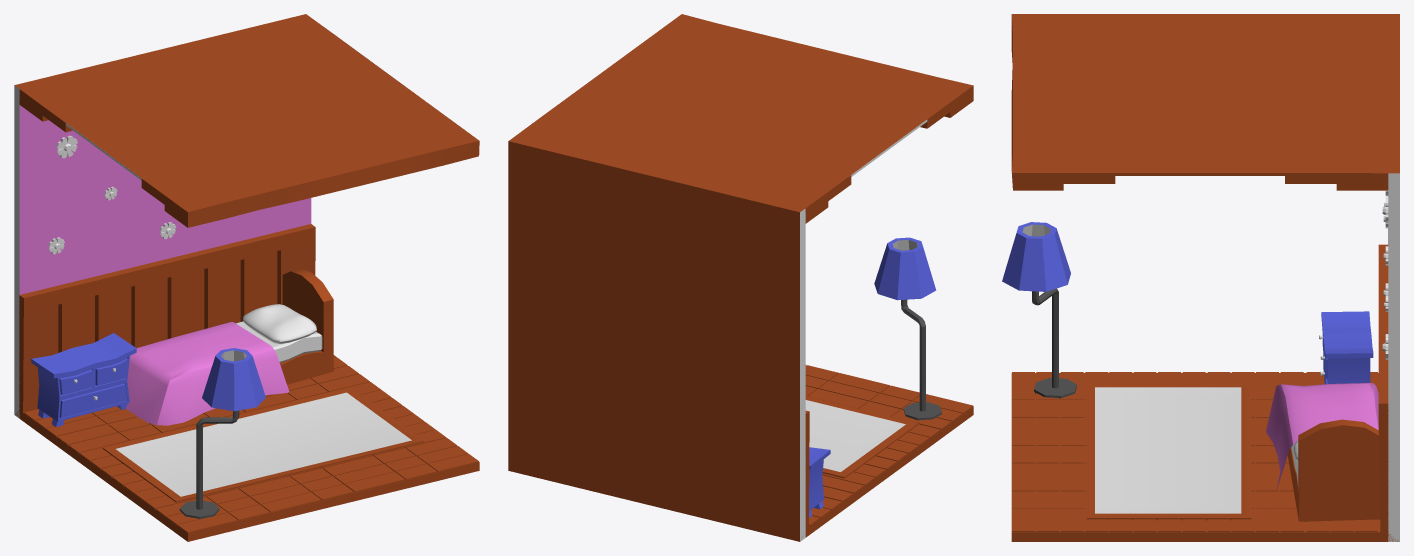
File: I_chambres.fbx
The picture shows the model from 3 angles, left to right: view 1: azimuth 30°, elevation 25°; view 2: azimuth 150°, elevation 25°; view 3: azimuth 270°, elevation 25°; orthographic projection. The views are drawn at different scales.
Parts seen in each view (by area): view 1: I_chambres; view 2: I_chambres; view 3: I_chambres.
Part boxes in pixels (x1=…): I_chambres: x1=14, y1=14, x2=479, y2=541; I_chambres: x1=508, y1=14, x2=973, y2=541; I_chambres: x1=1002, y1=14, x2=1399, y2=541.
Size of the model in its own units: 600 by 648 by 634.
